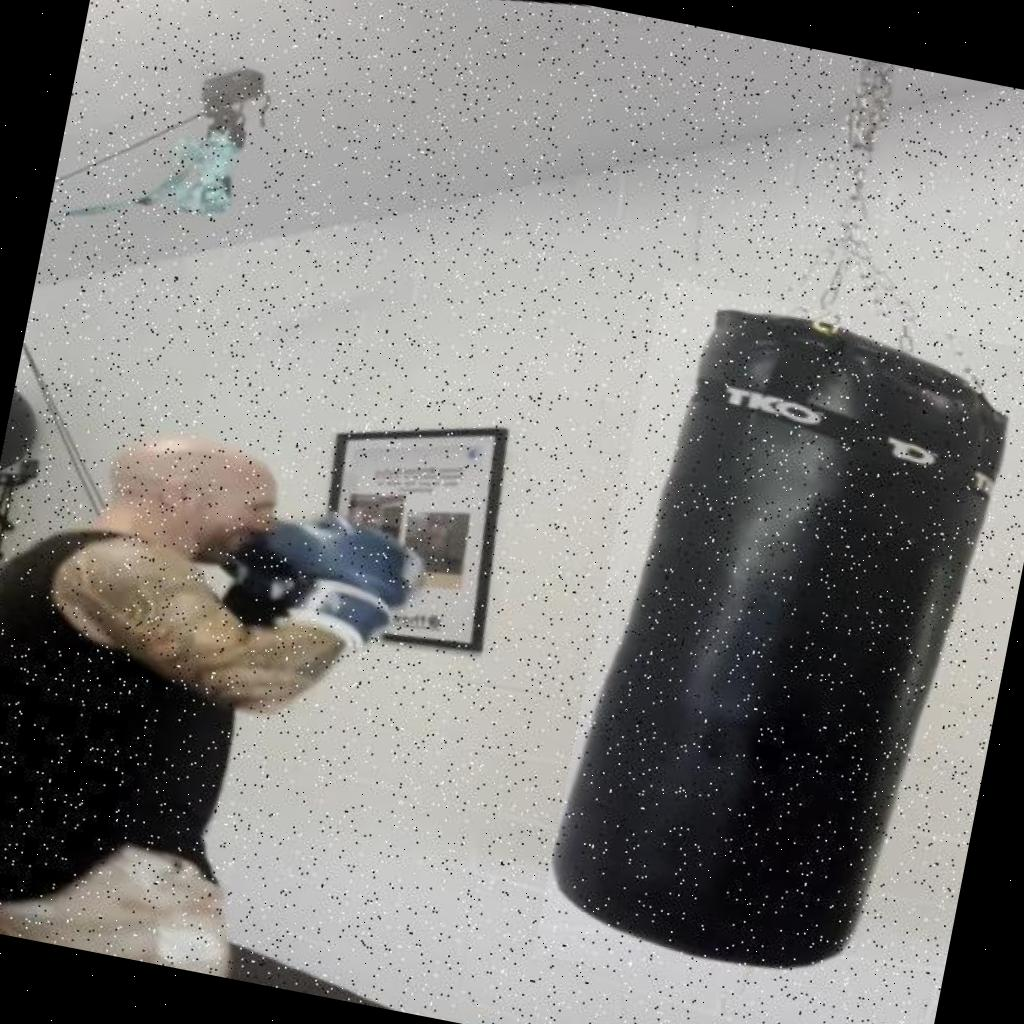bag: (533, 279, 1024, 1024)
no punch: (0, 356, 483, 775)
